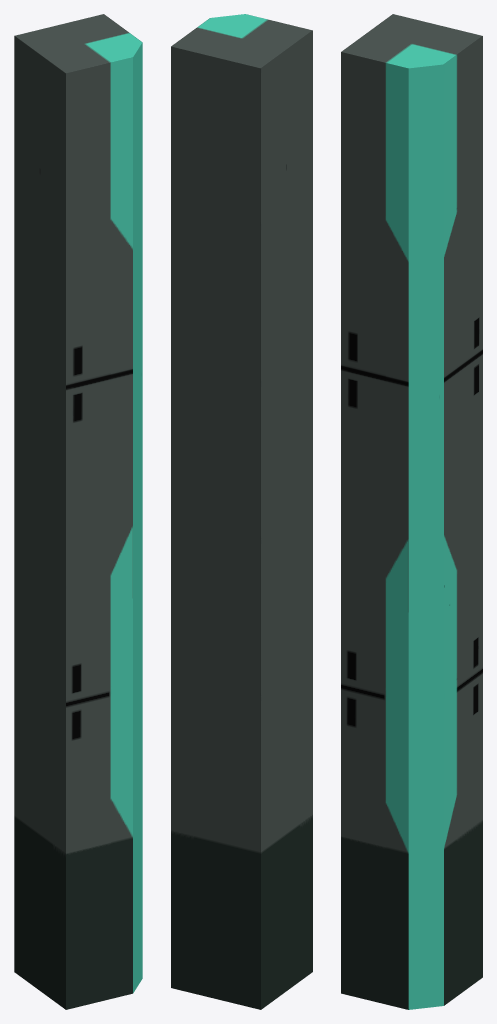
File: Corner 1.fbx
3 renders of one model, left to right at view 1: azimuth 30°, elevation 25°; view 2: azimuth 150°, elevation 25°; view 3: azimuth 330°, elevation 25°, orthographic.
Parts seen in each view (by area): view 1: Corner; view 2: Corner; view 3: Corner.
Part boxes in pixels (x1=…): Corner: x1=14, y1=14, x2=142, y2=1009; Corner: x1=171, y1=14, x2=312, y2=1009; Corner: x1=341, y1=14, x2=482, y2=1009.
Bounding box in the file's own units: 30 × 300 × 30.
